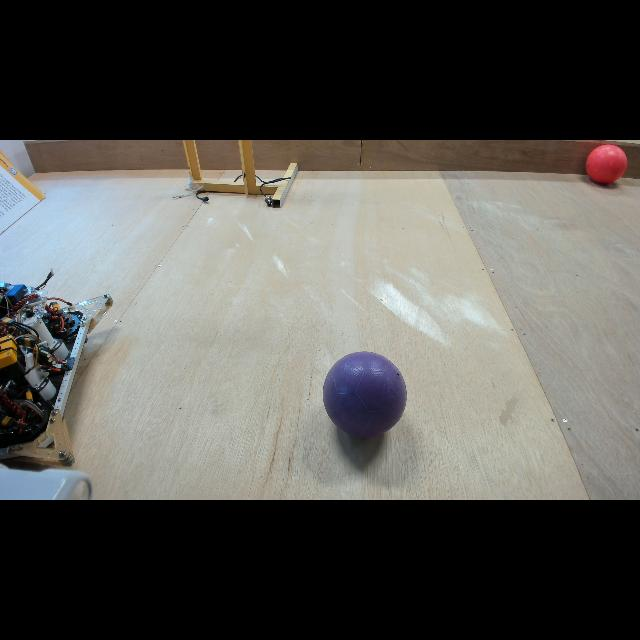P: (322, 351, 408, 439)
R: (586, 143, 628, 184)
